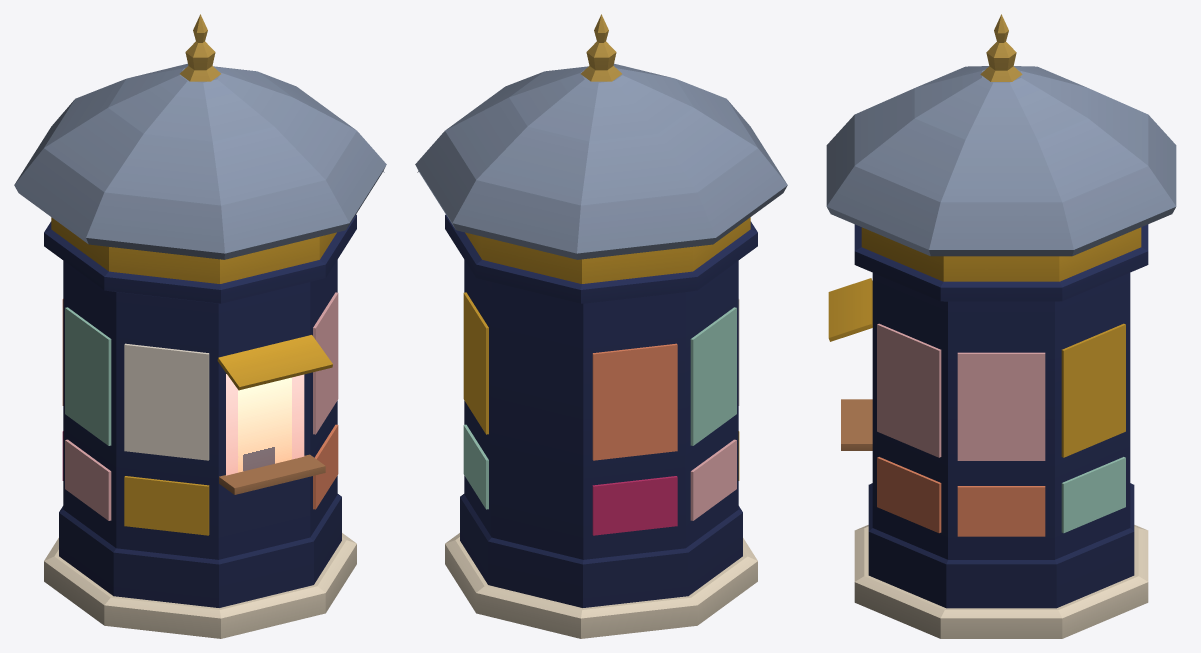
Rendered from kiosk.glb.
3 views of the same model, side by side, from view 1: azimuth 30°, elevation 25°; view 2: azimuth 150°, elevation 25°; view 3: azimuth 270°, elevation 25° (orthographic).
Parts seen in each view (by area): view 1: kiosk.001, window; view 2: kiosk.001; view 3: kiosk.001.
Part boxes in pixels (x1,y1,x2,y2): kiosk.001: (14,14,386,638); window: (226,374,304,475); kiosk.001: (415,14,787,638); kiosk.001: (826,14,1176,638).
Bounding box in the file's own units: 2.44 × 4.1 × 2.44.
Materials: 2 (1 with a texture image).
